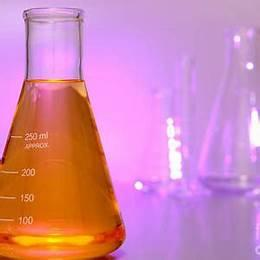Titrarion: (3, 6, 132, 256)
